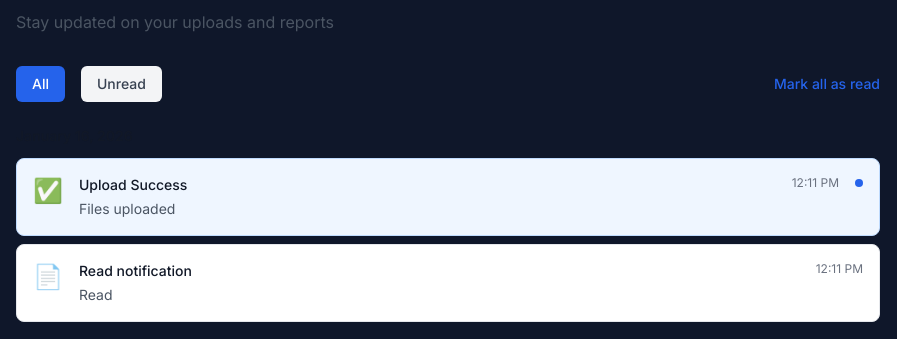
Test case: Notifications Page › filters notifications by unread
Expected: the text "Read notification" is shown, [79,262,192,279]
Click the button "Unread".
click(121, 84)  # box [81,66,162,102]
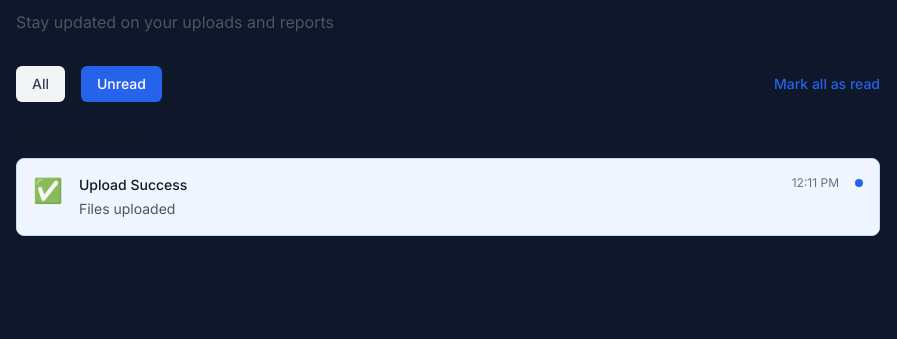
Expected: the text "Upload Success" is shown, [79,176,187,193]
Result: the text "Read notification" is gone
